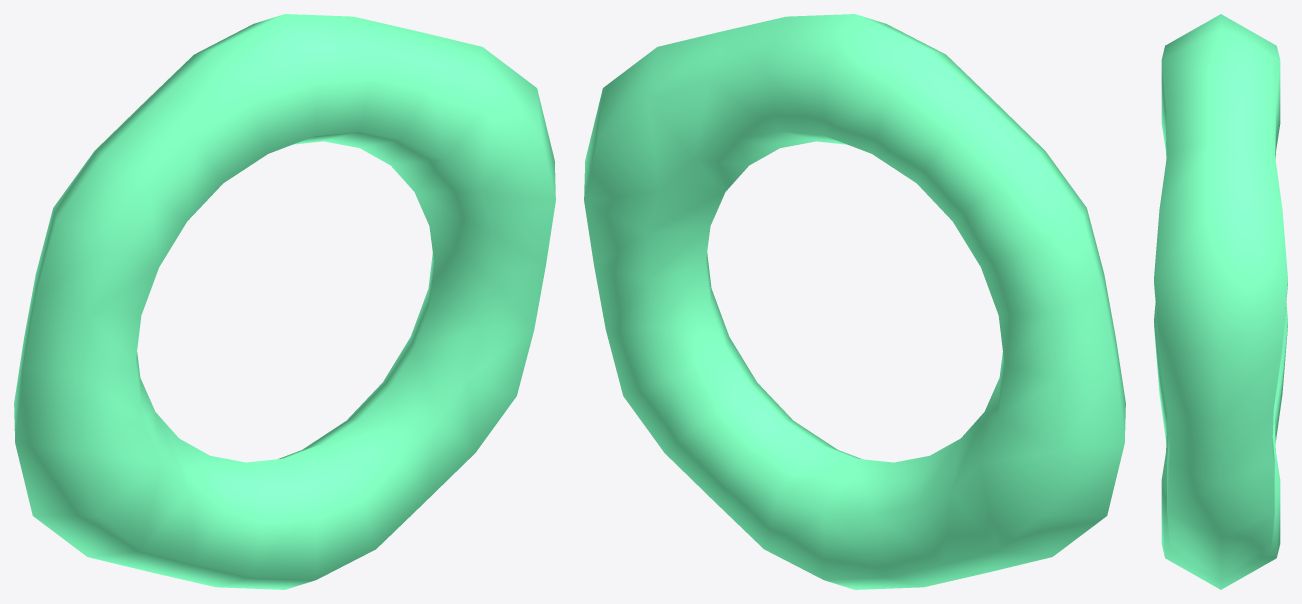
Rendered from s2_XO_enzyme.glb.
3 renders of one model, left to right at view 1: azimuth 30°, elevation 25°; view 2: azimuth 150°, elevation 25°; view 3: azimuth 270°, elevation 25°, orthographic. The views are drawn at different scales.
Parts seen in each view (by area): view 1: xo_ring; view 2: xo_ring; view 3: xo_ring.
Part boxes in pixels (x1,y1,x2,y2): xo_ring: (14,14,555,589); xo_ring: (584,14,1125,589); xo_ring: (1154,14,1287,589).
Size of the model in its own units: 0.5412 by 0.552 by 0.1229.
